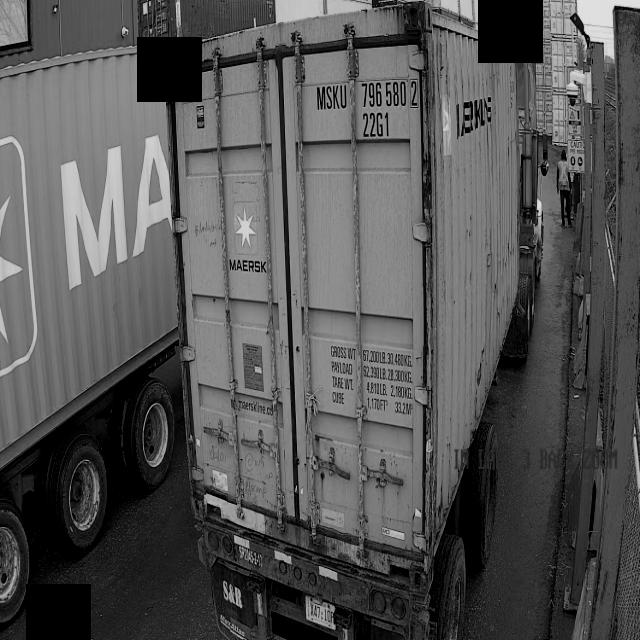container_company_logo: (228, 201, 265, 282)
container_number: (315, 81, 420, 142)
driver: (556, 150, 571, 226)
license_plate: (301, 598, 339, 630)
other_container_info: (328, 337, 413, 420)
truck_with_container: (166, 2, 548, 640), (0, 46, 178, 625)
